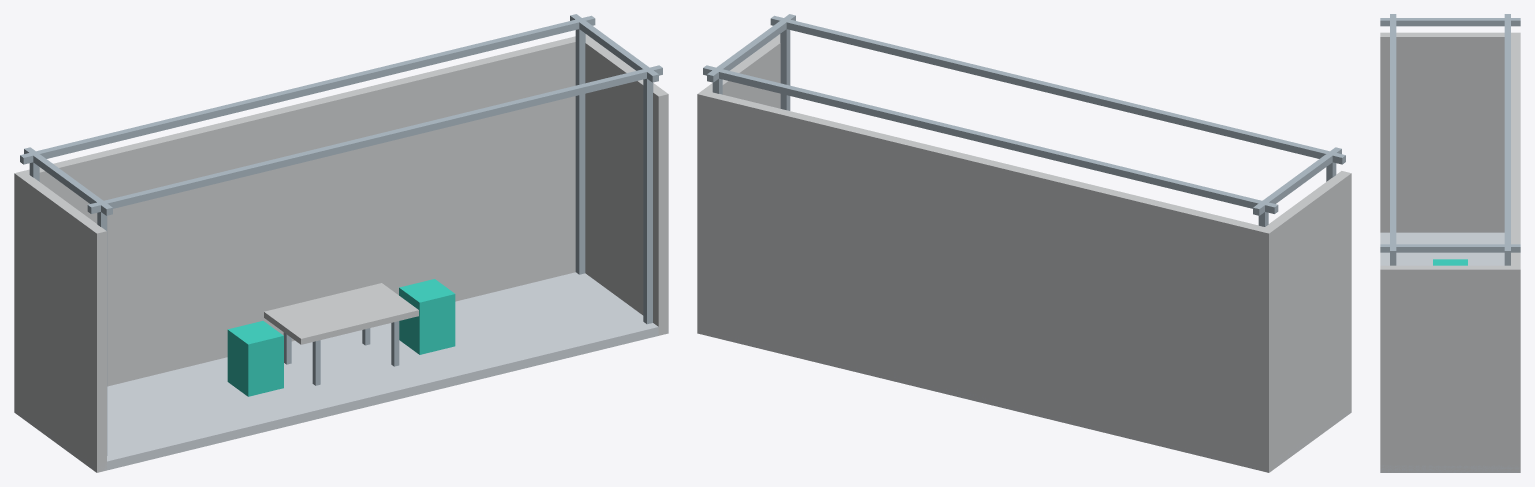
3 views of the same model, side by side, from view 1: azimuth 30°, elevation 25°; view 2: azimuth 150°, elevation 25°; view 3: azimuth 270°, elevation 25° (orthographic). The views are drawn at different scales.
Parts seen in each view (by area): view 1: Exhibition Booth Concept; view 2: Exhibition Booth Concept; view 3: Exhibition Booth Concept.
Boxes of the visible parts, x1,y1,x2,y2 form: Exhibition Booth Concept: (14, 14, 668, 472); Exhibition Booth Concept: (697, 14, 1351, 472); Exhibition Booth Concept: (1380, 14, 1520, 472).
Size of the model in its own units: 8 by 3.49 by 2.
